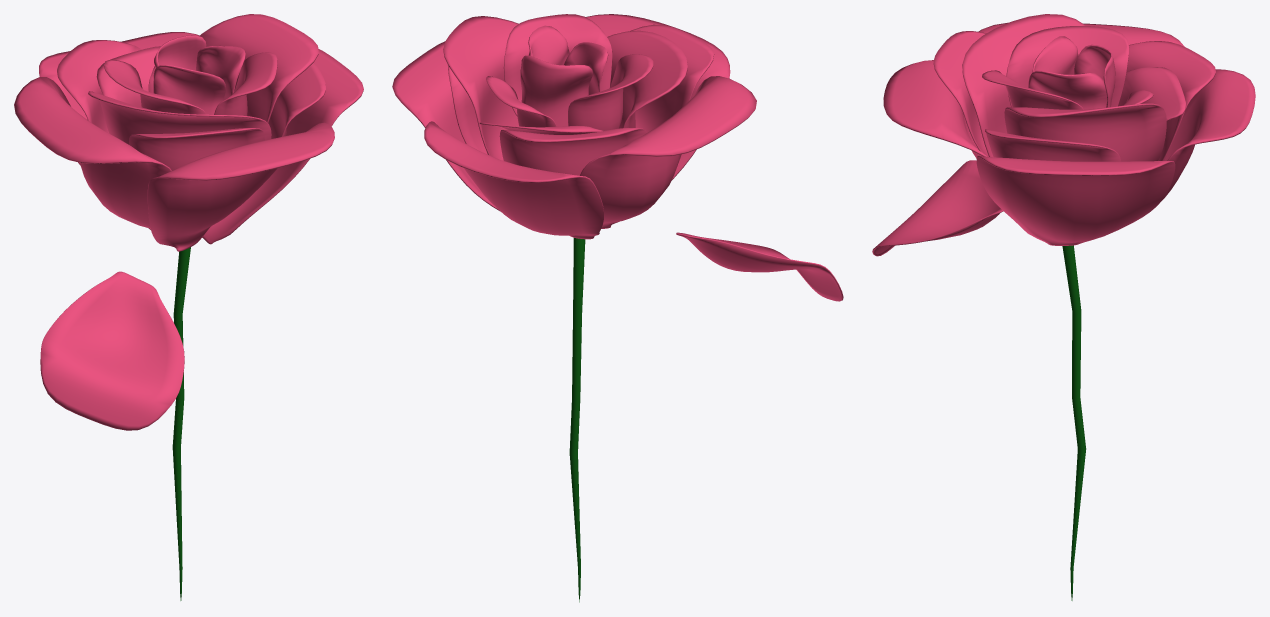
Rendered from flower4.gltf.
3 renders of one model, left to right at view 1: azimuth 30°, elevation 25°; view 2: azimuth 150°, elevation 25°; view 3: azimuth 270°, elevation 25°, orthographic.
Parts seen in each view (by area): view 1: Plane.017, Plane.003, Plane.002, Plane.005, Plane.004, Plane.007, Plane.013, Plane.012, Plane.009, Cylinder, Plane.011, Plane.014 (+5 smaller); view 2: Plane.002, Plane, Plane.005, Plane.012, Plane.004, Plane.007, Plane.017, Plane.008, Plane.014, Plane.013, Cylinder, Plane.016 (+6 smaller); view 3: Plane.004, Plane.005, Plane.017, Plane.007, Plane.003, Plane, Plane.016, Plane.012, Cylinder, Plane.011, Plane.013, Plane.006 (+5 smaller).
Boxes of the visible parts, x1=… form: Plane.017: x1=40, y1=271, x2=184, y2=430; Plane.003: x1=147, y1=122, x2=334, y2=251; Plane.002: x1=14, y1=77, x2=171, y2=228; Plane.005: x1=199, y1=14, x2=318, y2=122; Plane.004: x1=202, y1=49, x2=363, y2=244; Plane.007: x1=88, y1=91, x2=271, y2=144; Plane.013: x1=129, y1=128, x2=264, y2=170; Plane.012: x1=57, y1=40, x2=141, y2=133; Plane.009: x1=153, y1=64, x2=225, y2=114; Cylinder: x1=172, y1=247, x2=190, y2=600; Plane.011: x1=268, y1=62, x2=325, y2=138; Plane.014: x1=214, y1=52, x2=277, y2=115; Plane.002: x1=579, y1=76, x2=756, y2=222; Plane: x1=424, y1=121, x2=603, y2=239; Plane.005: x1=443, y1=16, x2=518, y2=160; Plane.012: x1=499, y1=128, x2=646, y2=175; Plane.004: x1=392, y1=41, x2=500, y2=211; Plane.007: x1=607, y1=30, x2=687, y2=128; Plane.017: x1=676, y1=232, x2=843, y2=301; Plane.008: x1=520, y1=55, x2=592, y2=126; Plane.014: x1=503, y1=14, x2=612, y2=116; Plane.013: x1=630, y1=24, x2=714, y2=132; Cylinder: x1=569, y1=238, x2=585, y2=602; Plane.016: x1=568, y1=54, x2=653, y2=130; Plane.004: x1=976, y1=156, x2=1175, y2=245; Plane.005: x1=1004, y1=103, x2=1166, y2=161; Plane.017: x1=872, y1=160, x2=1003, y2=256; Plane.007: x1=962, y1=14, x2=1085, y2=157; Plane.003: x1=883, y1=60, x2=987, y2=158; Plane: x1=1163, y1=69, x2=1255, y2=199; Plane.016: x1=1006, y1=26, x2=1128, y2=107; Plane.012: x1=1126, y1=41, x2=1215, y2=160; Cylinder: x1=1062, y1=245, x2=1086, y2=600; Plane.011: x1=985, y1=129, x2=1121, y2=161; Plane.013: x1=933, y1=31, x2=988, y2=156; Plane.006: x1=1118, y1=67, x2=1185, y2=120.
Bounding box in the file's own units: 7.6 × 11.09 × 6.92.
